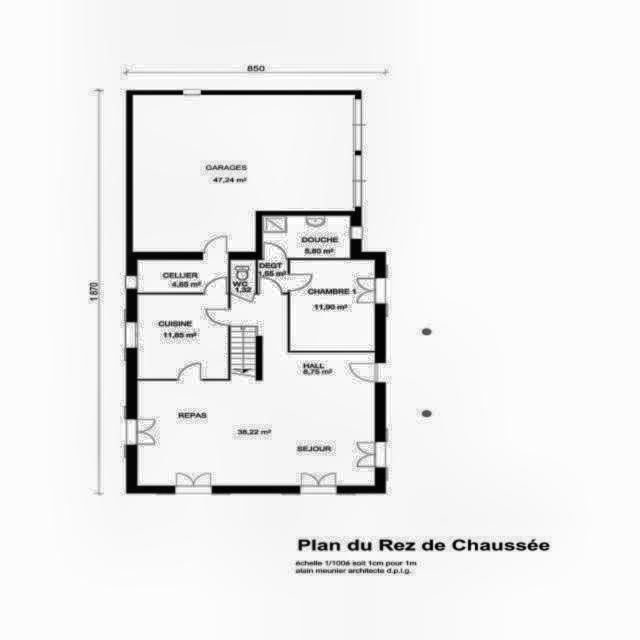room: (126, 294, 386, 493), (133, 95, 355, 260), (287, 260, 386, 351), (138, 294, 231, 379), (262, 215, 350, 260), (137, 260, 229, 294), (230, 326, 256, 377), (258, 260, 288, 295), (230, 260, 256, 294)
